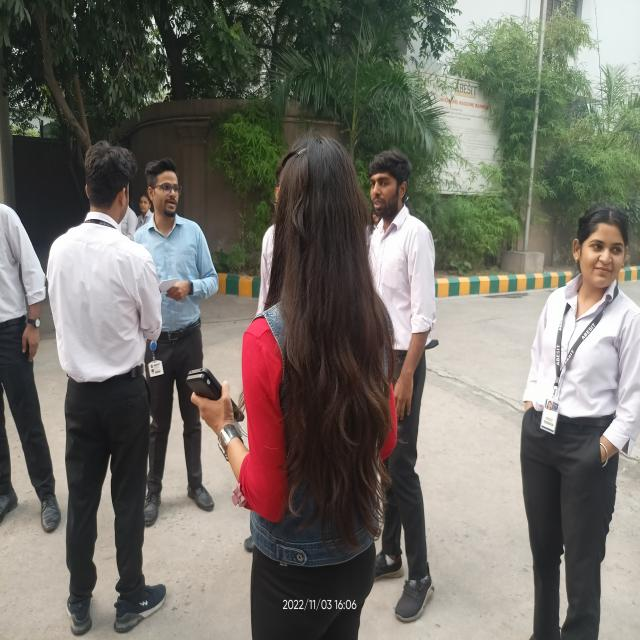unsafe: (239, 137, 389, 640), (50, 138, 164, 630), (519, 210, 634, 640), (370, 146, 440, 629), (143, 159, 215, 518)
